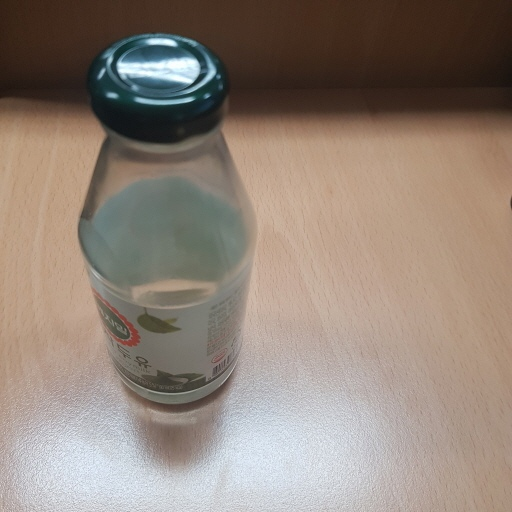Glass_4: (70, 29, 255, 411)
